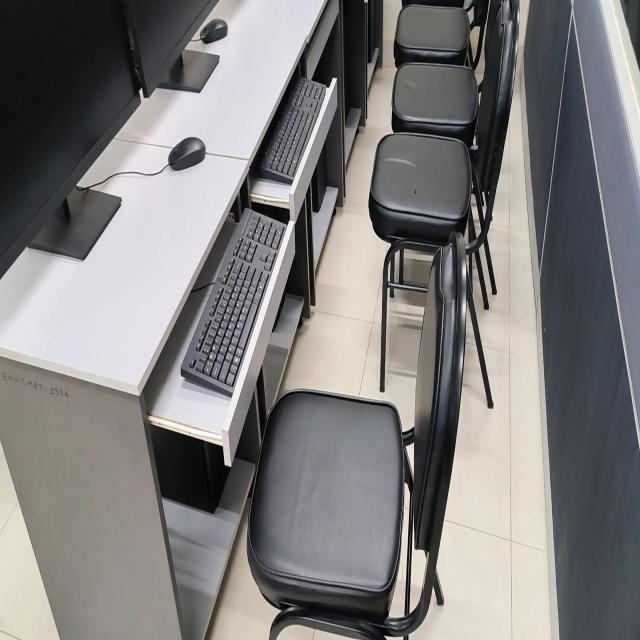Chair: (247, 233, 467, 639), (369, 0, 519, 407), (392, 63, 478, 147), (394, 4, 472, 68)
Keyboard: (181, 210, 286, 398), (258, 78, 325, 185), (280, 107, 309, 139)
Monitor: (0, 0, 139, 277), (123, 0, 216, 97)
Mouse: (168, 137, 205, 170), (200, 18, 228, 43)
